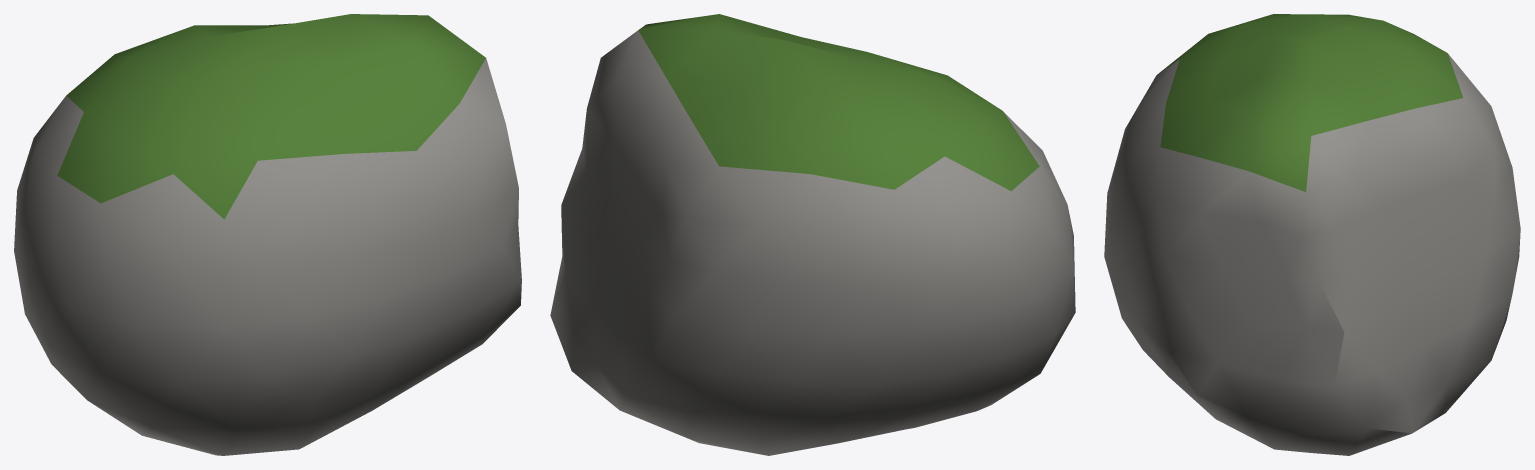
The model's file is boulder_d.glb.
3 views of the same model, side by side, from view 1: azimuth 30°, elevation 25°; view 2: azimuth 150°, elevation 25°; view 3: azimuth 270°, elevation 25° (orthographic). The views are drawn at different scales.
Visible parts, largest first — view 1: boulder_d; view 2: boulder_d; view 3: boulder_d.
Boxes of the visible parts, box(x1,y1,x2,y2) form: boulder_d: box(14, 14, 521, 455); boulder_d: box(550, 14, 1075, 455); boulder_d: box(1104, 14, 1520, 455).
Bounding box in the file's own units: 3.47 × 2.81 × 2.82.
